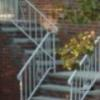stairs: (2, 19, 72, 70), (37, 70, 97, 100)
